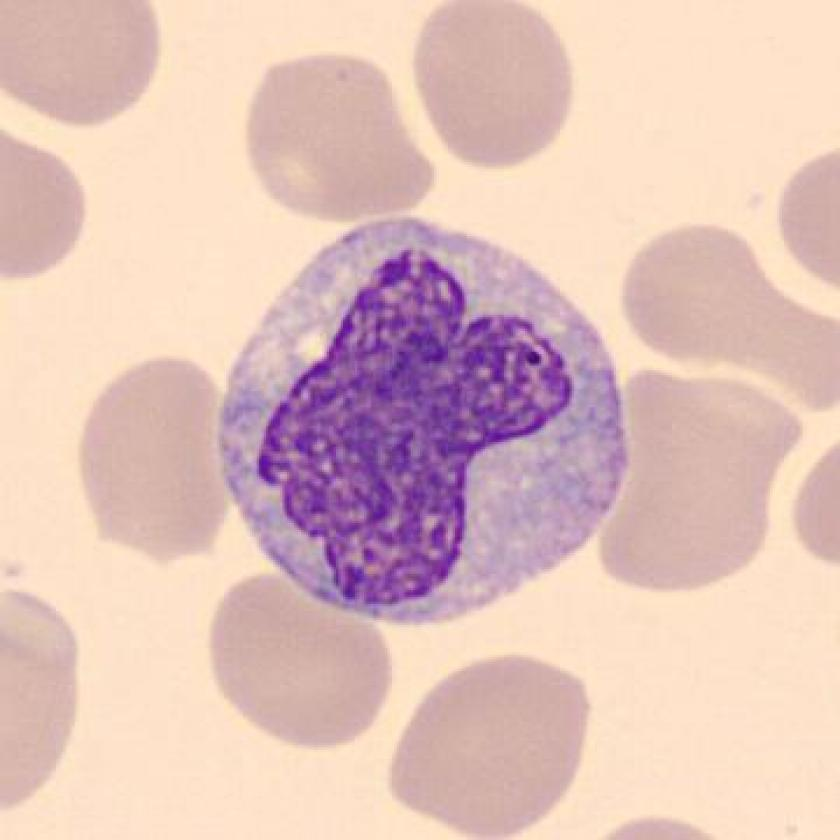monocyte: (195, 186, 661, 649)
